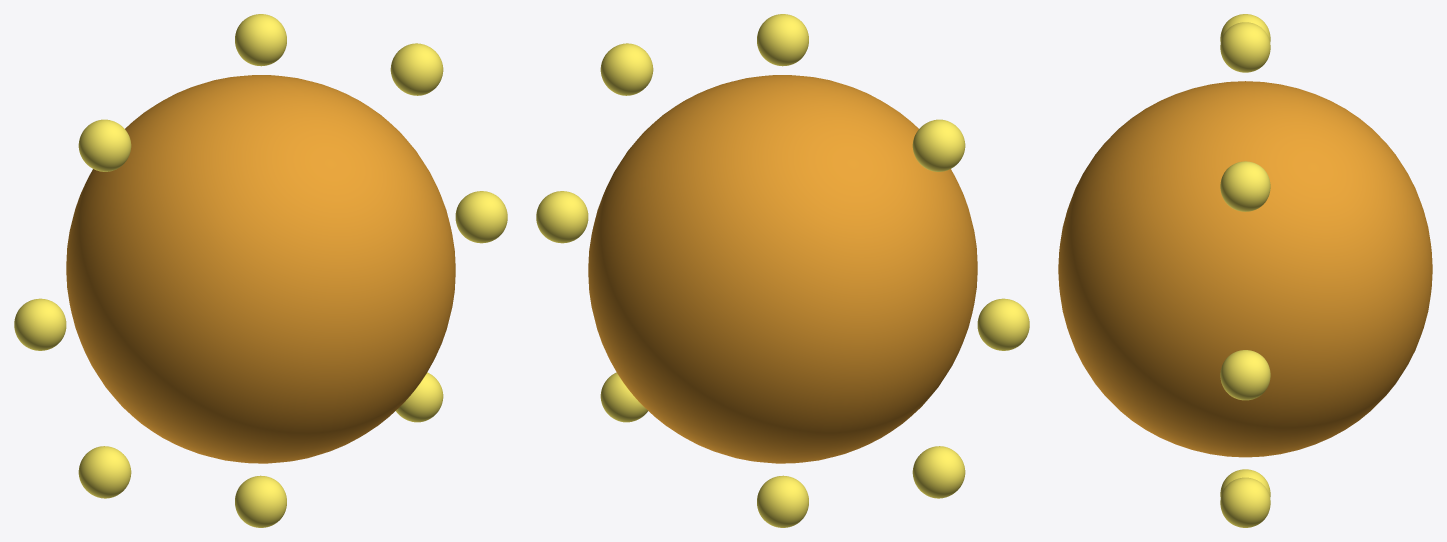
File: Sun.fbx
3 views of the same model, side by side, from view 1: azimuth 30°, elevation 25°; view 2: azimuth 150°, elevation 25°; view 3: azimuth 270°, elevation 25° (orthographic). The views are drawn at different scales.
Parts seen in each view (by area): view 1: Cube, Cube.003; view 2: Cube, Cube.003; view 3: Cube, Cube.003.
Boxes of the visible parts, box(x1,y1,x2,y2) form: Cube: box(66, 75, 455, 463); Cube.003: box(14, 14, 507, 527); Cube: box(588, 75, 977, 463); Cube.003: box(536, 14, 1029, 527); Cube: box(1058, 81, 1432, 457); Cube.003: box(1220, 14, 1270, 527).
Bounding box in the file's own units: 247 × 247 × 170.
